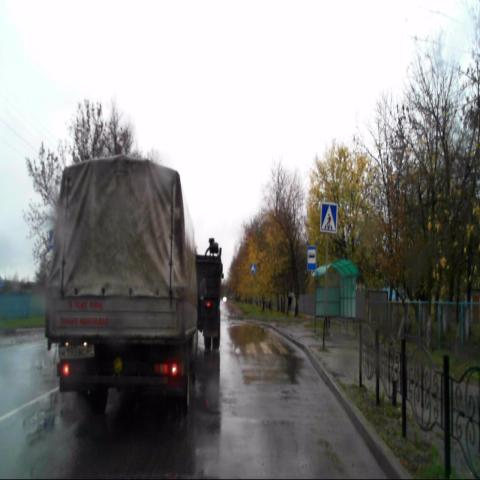5_16: (306, 244, 317, 271)
5_19_1: (320, 201, 338, 234)
5_20: (249, 260, 257, 273)
